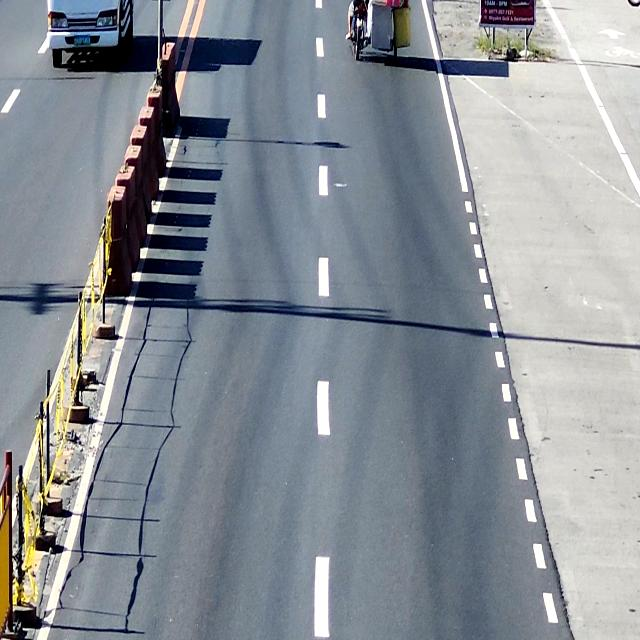License-Plate: (72, 32, 90, 48)
Tricycle: (348, 0, 415, 68)
Truck: (47, 0, 136, 67)
